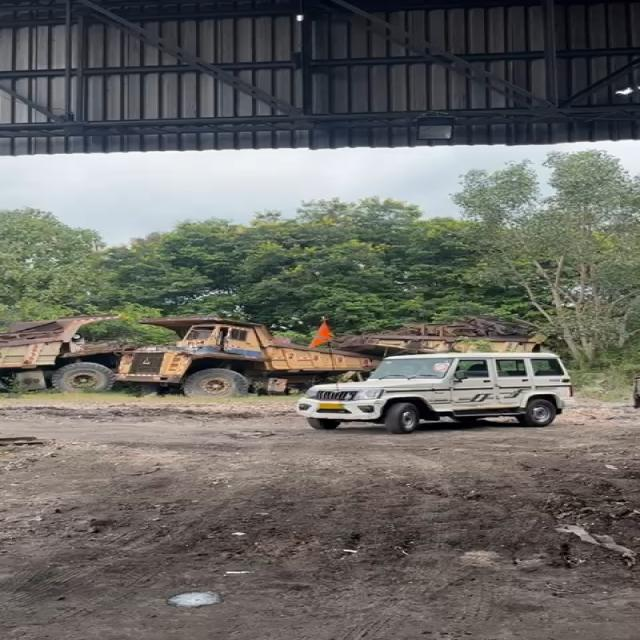light_vehicle: (304, 349, 574, 434)
